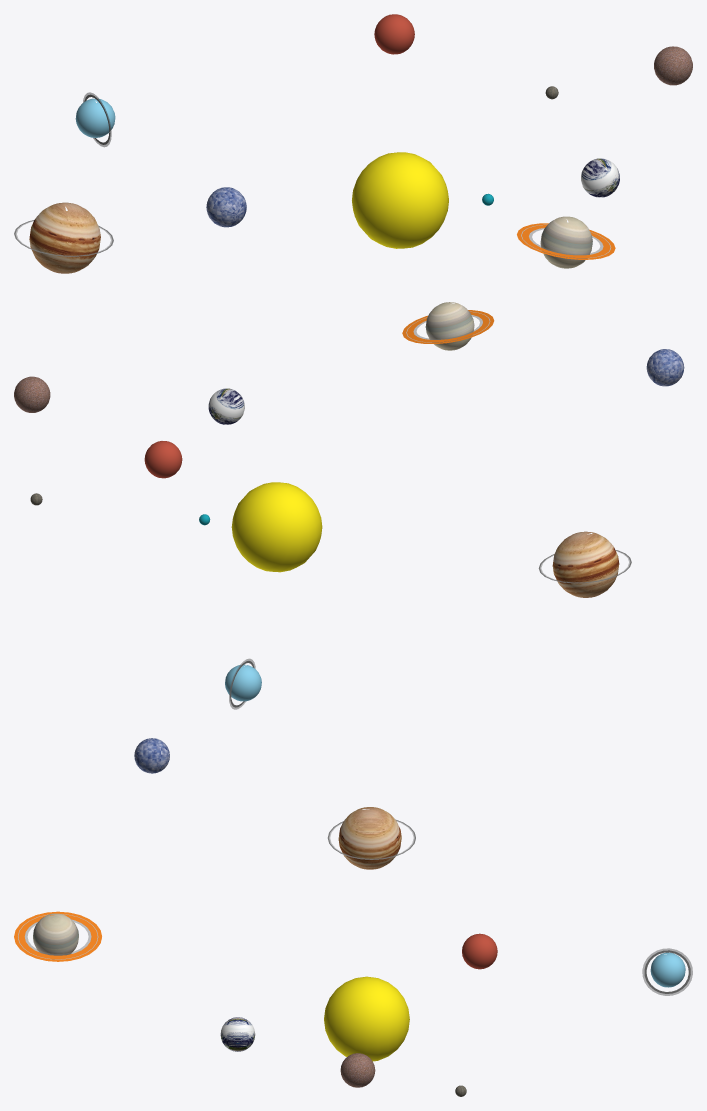
Rendered from solar.gltf.
3 views of the same model, one above another, from view 1: azimuth 30°, elevation 25°; view 2: azimuth 150°, elevation 25°; view 3: azimuth 270°, elevation 25° (orthographic). The views are drawn at different scales.
Visible parts, largest first — view 1: root, object 2; view 2: root, object 2; view 3: root, object 2.
Part boxes in pixels (left/top/right/bottom): root: left=14, top=14, right=692, bottom=273; object 2: left=517, top=223, right=615, bottom=259; root: left=14, top=302, right=684, bottom=709; object 2: left=402, top=310, right=494, bottom=343; root: left=33, top=738, right=692, bottom=1096; object 2: left=14, top=911, right=101, bottom=961.
Bounding box in the file's own units: 67.04 × 20.98 × 67.44.
13 materials, 6 textured.
